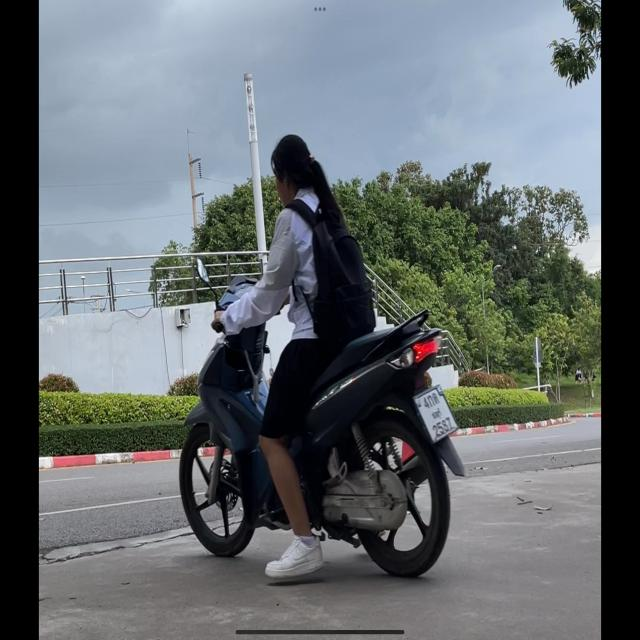seatbelt: (269, 133, 317, 207)
